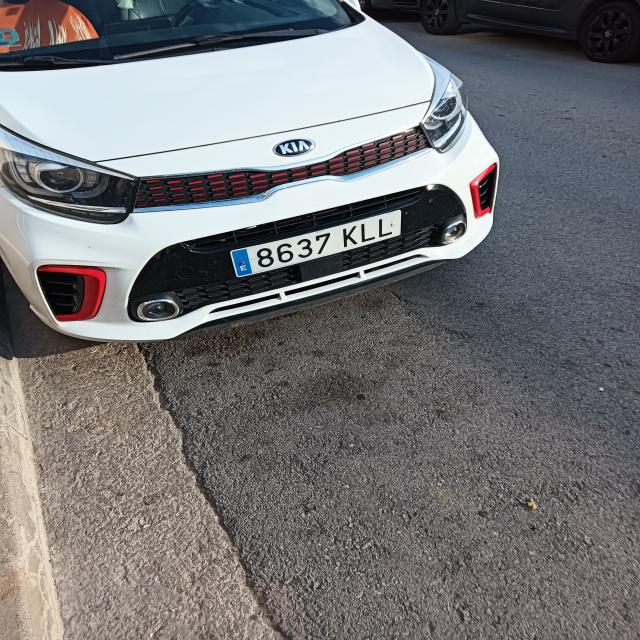license_plate-34Td: (231, 209, 401, 277)
